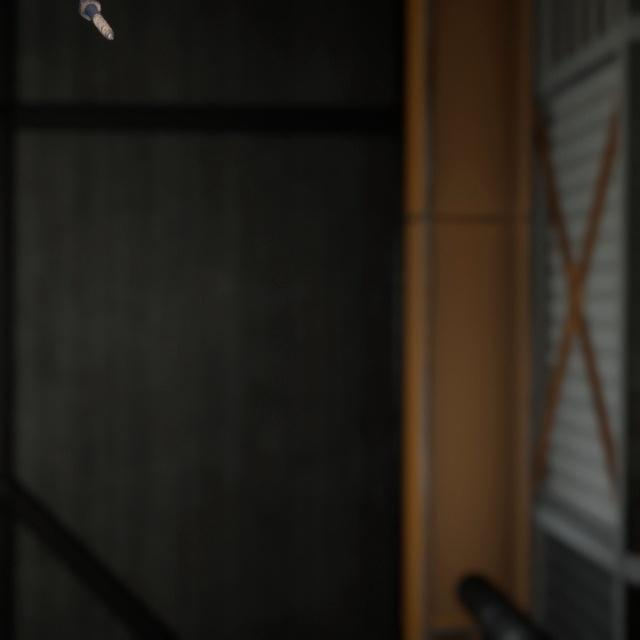bolt: (74, 0, 118, 36)
